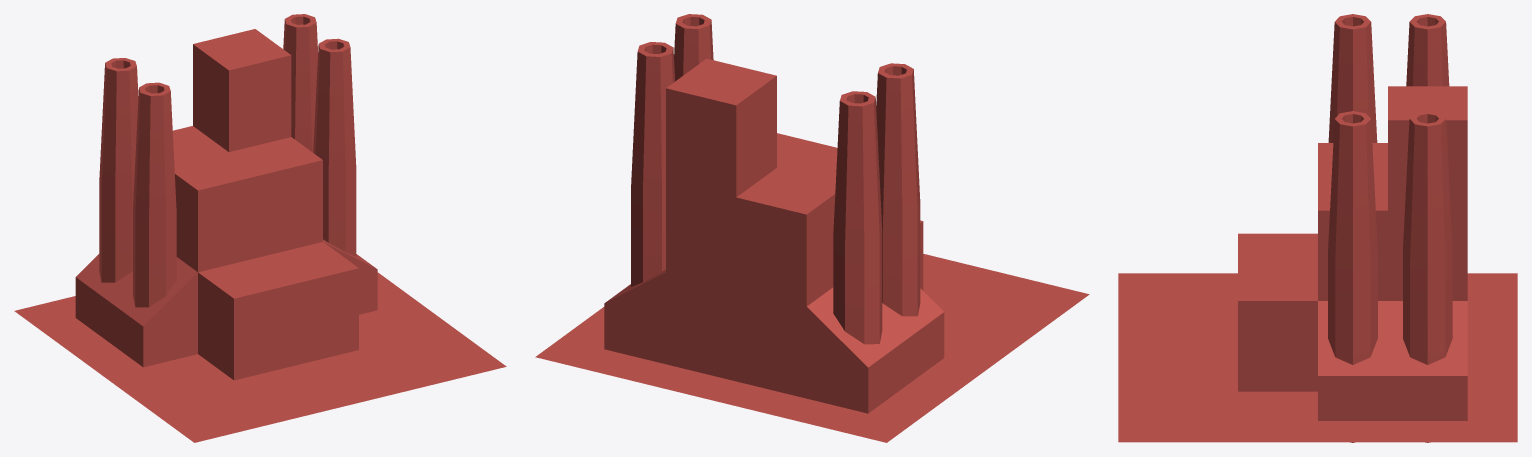
File: 4x4 Factory.fbx
The picture shows the model from 3 angles, left to right: view 1: azimuth 30°, elevation 25°; view 2: azimuth 150°, elevation 25°; view 3: azimuth 270°, elevation 25°; orthographic projection. The views are drawn at different scales.
Visible parts, largest first — view 1: 4x4 Factory; view 2: 4x4 Factory; view 3: 4x4 Factory.
Part boxes in pixels (left/top/right/bottom): 4x4 Factory: left=14, top=14, right=506, bottom=442; 4x4 Factory: left=535, top=14, right=1089, bottom=442; 4x4 Factory: left=1118, top=14, right=1517, bottom=442.
Bounding box in the file's own units: 4 × 3.47 × 4.
